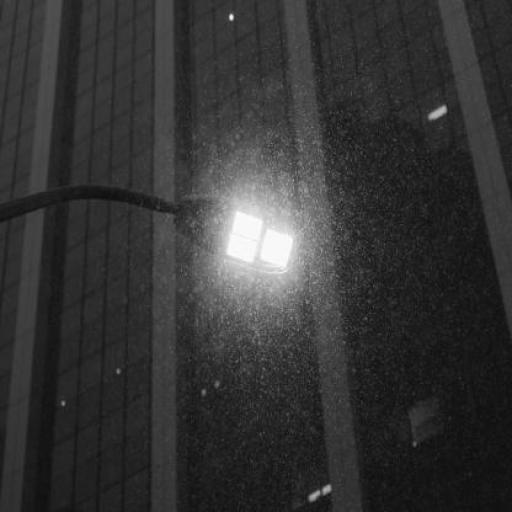street light: (0, 173, 297, 298)
